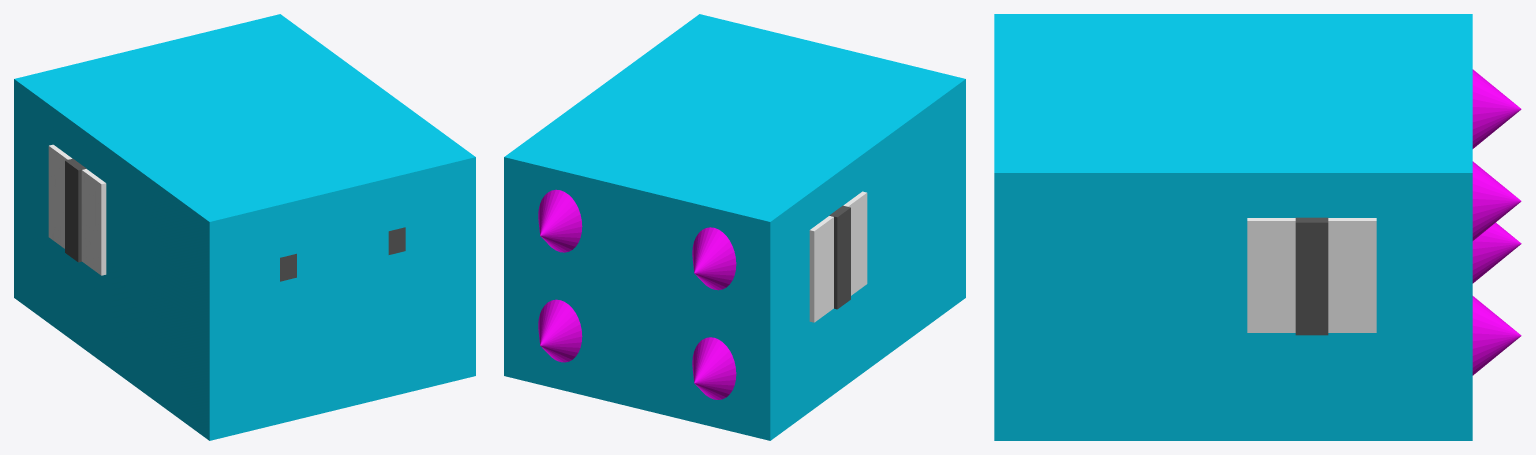
File: blue_head.obj
3 views of the same model, side by side, from view 1: azimuth 30°, elevation 25°; view 2: azimuth 150°, elevation 25°; view 3: azimuth 270°, elevation 25° (orthographic). The views are drawn at different scales.
Parts seen in each view (by area): view 1: blue_head:Mesh; view 2: blue_head:Mesh; view 3: blue_head:Mesh.
Part boxes in pixels (bbox=[...]): blue_head:Mesh: bbox=[14, 14, 475, 440]; blue_head:Mesh: bbox=[504, 14, 965, 440]; blue_head:Mesh: bbox=[994, 14, 1521, 440].
Bounding box in the file's own units: 2.97 × 2.2 × 3.93.
Materials: 1 (1 with a texture image).
